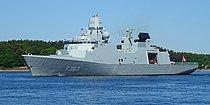MIL_Ship: (21, 14, 199, 77)
